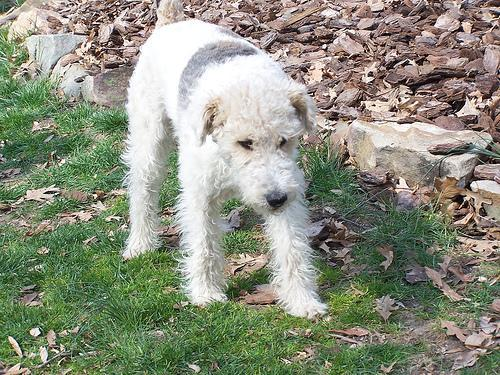wire-haired_fox_terrier: (119, 0, 330, 321)
